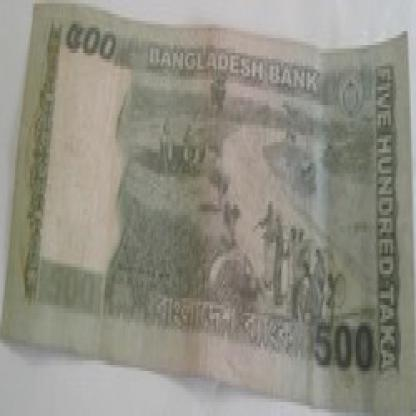500 taka: (46, 7, 142, 76)
currency: (7, 0, 413, 406)
